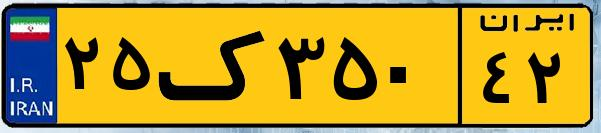0: (385, 28, 445, 110)
2: (57, 26, 110, 100), (525, 38, 570, 115)
3: (270, 28, 330, 110)
4: (475, 38, 525, 113)
5: (330, 28, 385, 110), (110, 28, 158, 98)
ک: (158, 12, 270, 120)
